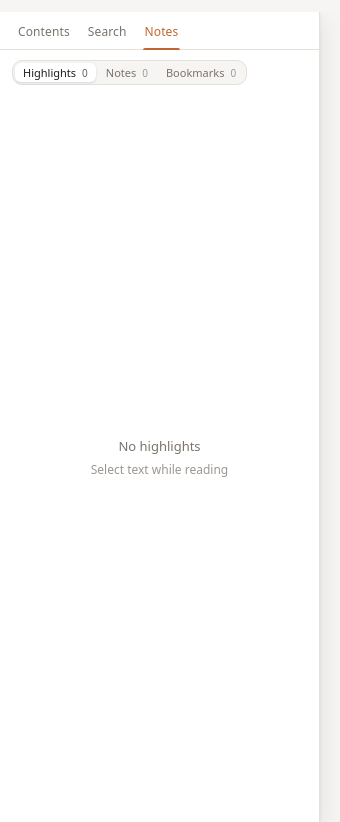
Scenario: AnnotationsPanel › shows the per-tab empty states with their hints
Check: the text "No highlights" is shown, box x1=118 y1=437 x2=201 y2=455
Check: the text "Select text while reading" is shown, box x1=91 y1=461 x2=228 y2=479
Click the tab "Notes 0" at [127, 73], box x1=98 y1=63 x2=156 y2=82
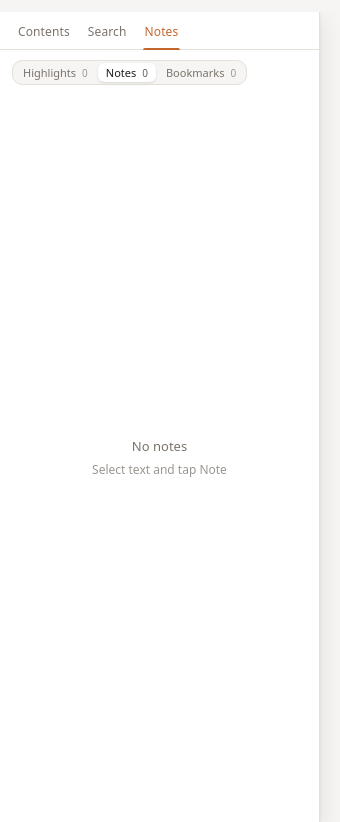
Check: the text "No notes" is shown, box x1=132 y1=437 x2=187 y2=455
Click the tab "Bookmarks 0" at [201, 73], box x1=158 y1=63 x2=244 y2=82
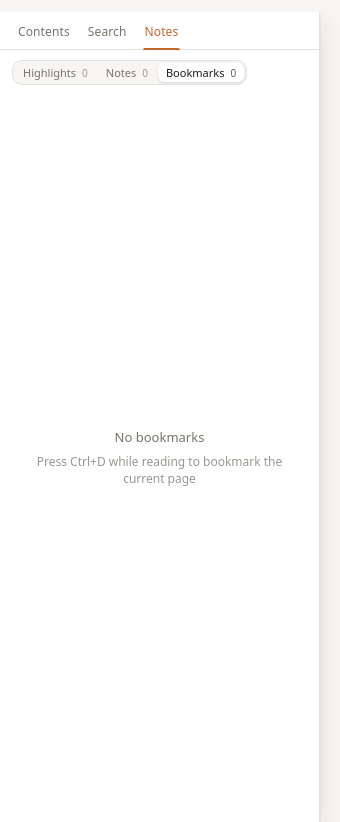
Check: the text "No bookmarks" is shown, box x1=115 y1=428 x2=204 y2=447
Check: the text "Press Ctrl+D while reading to bookmark the current page" is shown, box x1=16 y1=453 x2=303 y2=488
